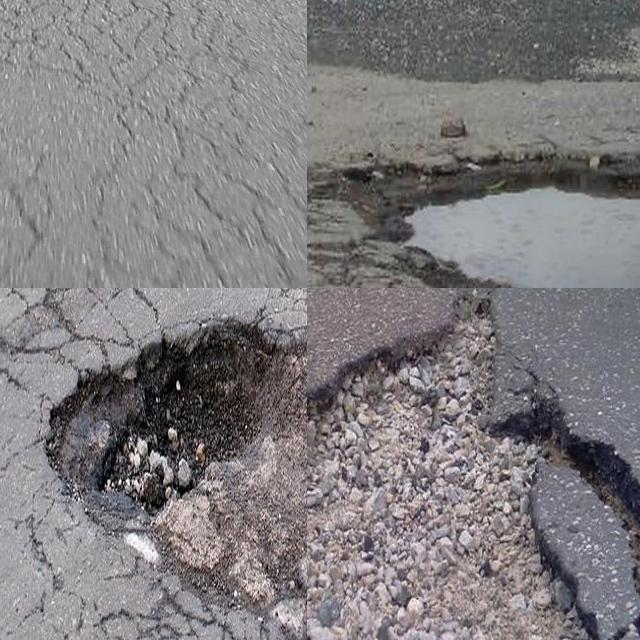Lubang: (307, 299, 640, 640), (51, 323, 299, 522), (372, 157, 640, 288)
Retak Buaya: (0, 0, 307, 288)
